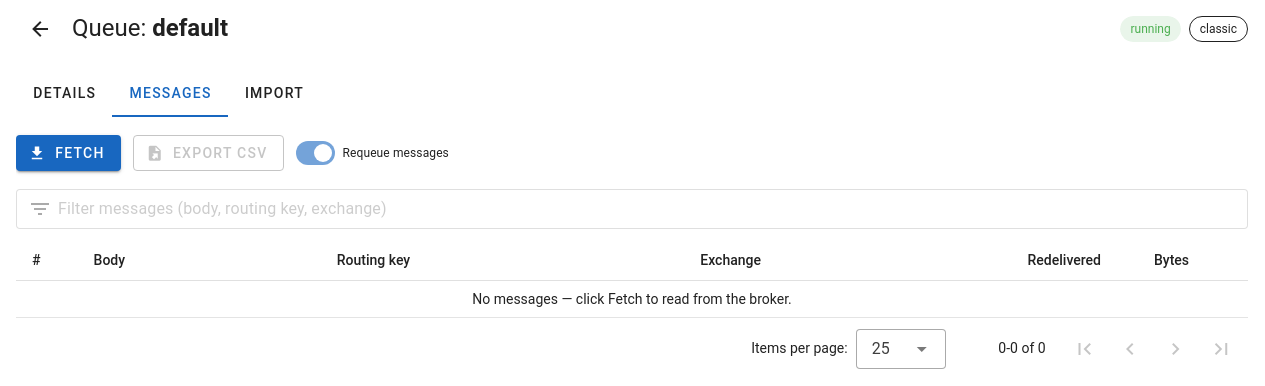
it: QueueDetailView › Import tab › renders ImportCsvPanel with the queue name when the Import tab is active
The width and height of the screenshot is (1265, 386).
Click the tab "Import". click: x=274, y=93
box: [228,69,320,117]
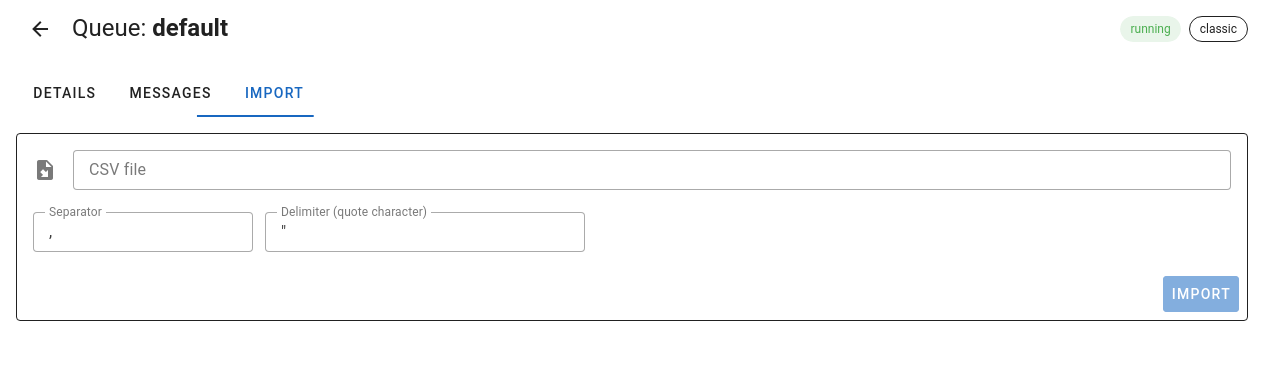
Result: the element with test id "import-csv-panel" is shown at [16,133,1248,321]
Result: the element with test id "import-file" is shown at [33,150,1231,212]
